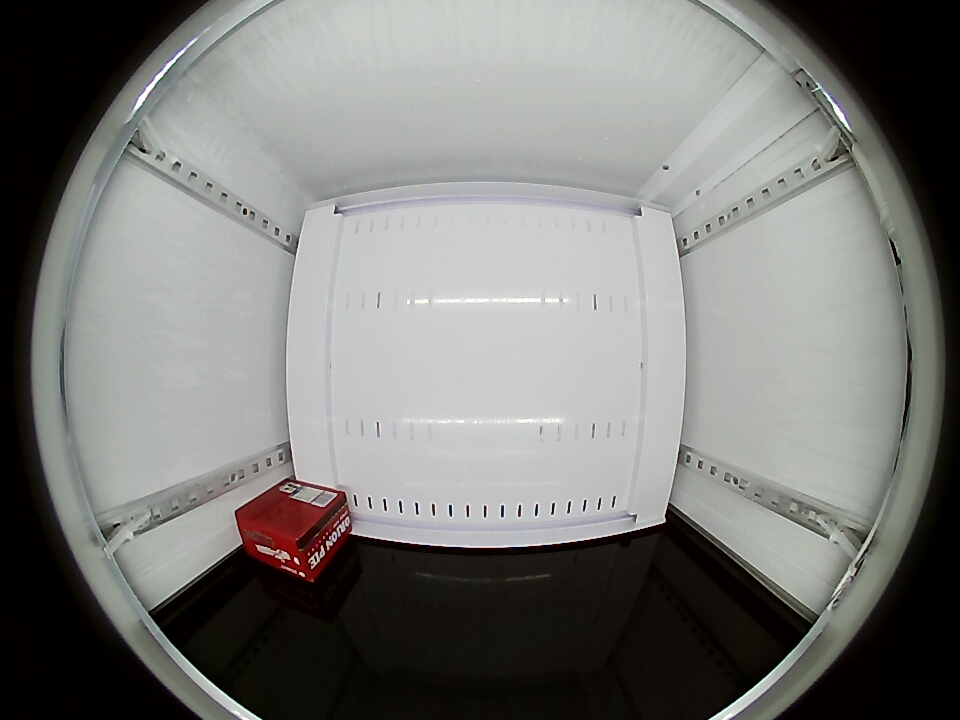haoliyou: (234, 493, 338, 581)
